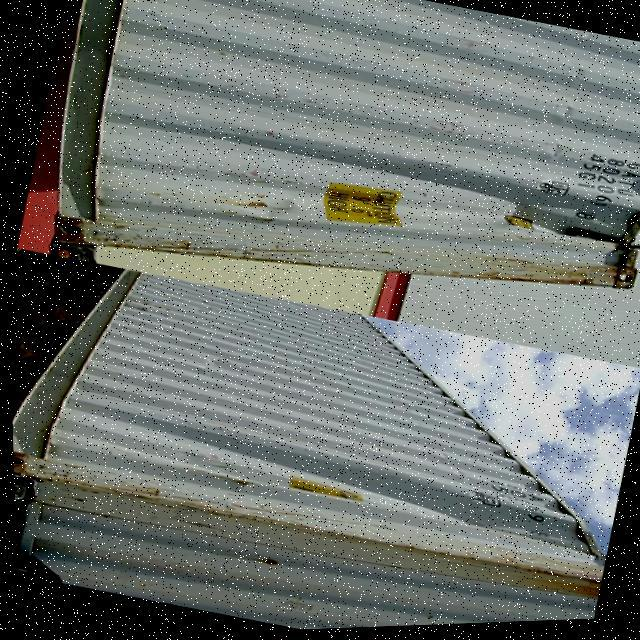rust: (29, 442, 579, 616), (56, 185, 374, 317)
